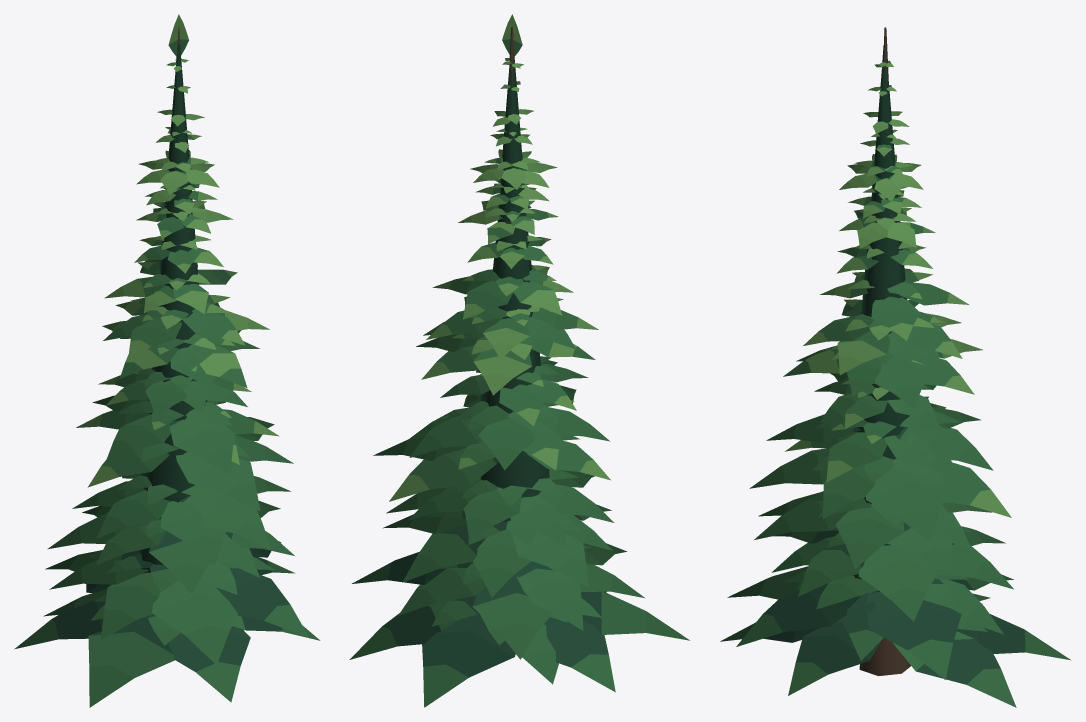
Rendered from AncientPine.glb.
3 renders of one model, left to right at view 1: azimuth 30°, elevation 25°; view 2: azimuth 150°, elevation 25°; view 3: azimuth 270°, elevation 25°, orthographic. The views are drawn at different scales.
Visible parts, largest first — view 1: AncientPine.needleMid, AncientPine.needleDark, AncientPine.needleLight; view 2: AncientPine.needleMid, AncientPine.needleDark, AncientPine.needleLight; view 3: AncientPine.needleMid, AncientPine.needleDark, AncientPine.needleLight, AncientPine.bark.
Boxes of the visible parts, x1,y1,x2,y2 form: AncientPine.needleMid: (14, 39, 320, 707); AncientPine.needleDark: (52, 44, 290, 671); AncientPine.needleLight: (76, 14, 279, 487); AncientPine.needleMid: (349, 39, 689, 707); AncientPine.needleDark: (382, 57, 608, 677); AncientPine.needleLight: (389, 14, 610, 501); AncientPine.needleMid: (720, 115, 1070, 707); AncientPine.needleDark: (763, 45, 1025, 684); AncientPine.needleLight: (785, 60, 1011, 517); AncientPine.bark: (859, 27, 910, 676).
Size of the model in its own units: 48.2 by 109 by 53.57.
